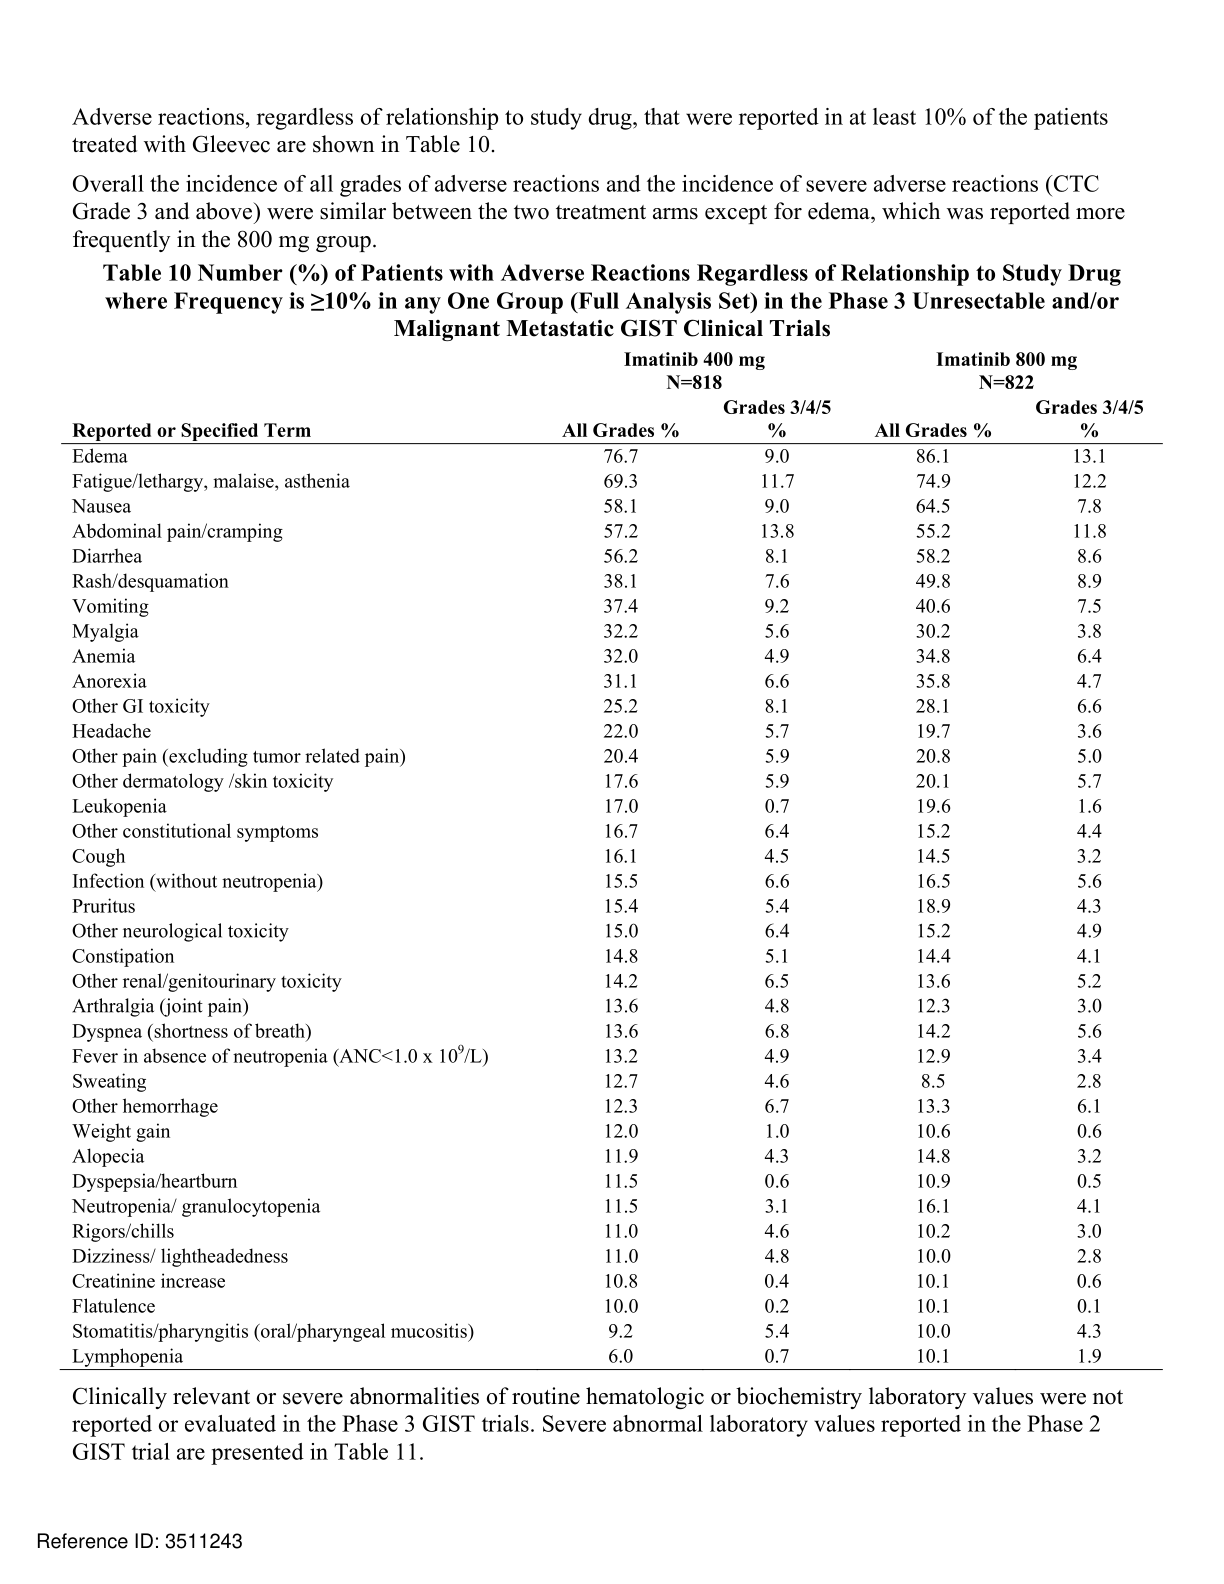partial_lined_merged_cells: (62, 345, 1164, 1373)
